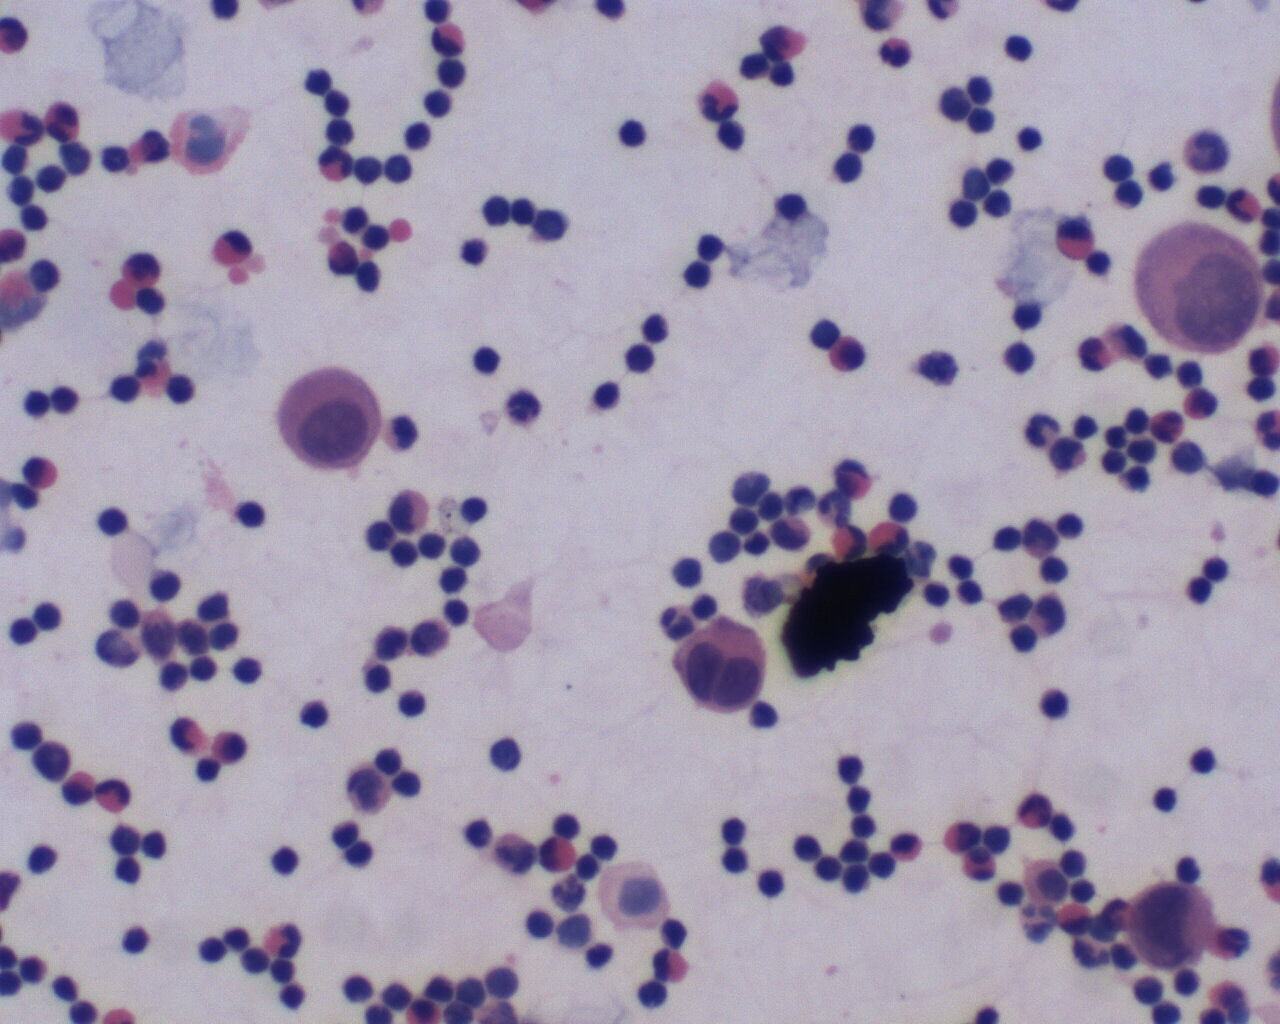ab: (1132, 218, 1270, 355), (272, 367, 386, 471), (667, 613, 766, 716), (1123, 878, 1219, 981)
lymph: (1032, 680, 1075, 732), (227, 492, 271, 542), (486, 728, 523, 779), (465, 336, 508, 380), (829, 149, 868, 189), (90, 503, 131, 540), (227, 654, 267, 692), (592, 373, 627, 416), (265, 841, 302, 880), (611, 117, 651, 153), (753, 863, 789, 902), (1184, 747, 1225, 781), (453, 494, 495, 526), (299, 698, 335, 732), (549, 808, 586, 840)
neutro: (693, 79, 745, 121), (90, 770, 135, 818), (259, 915, 308, 959), (1227, 184, 1265, 231), (312, 149, 358, 185), (875, 32, 915, 70)
